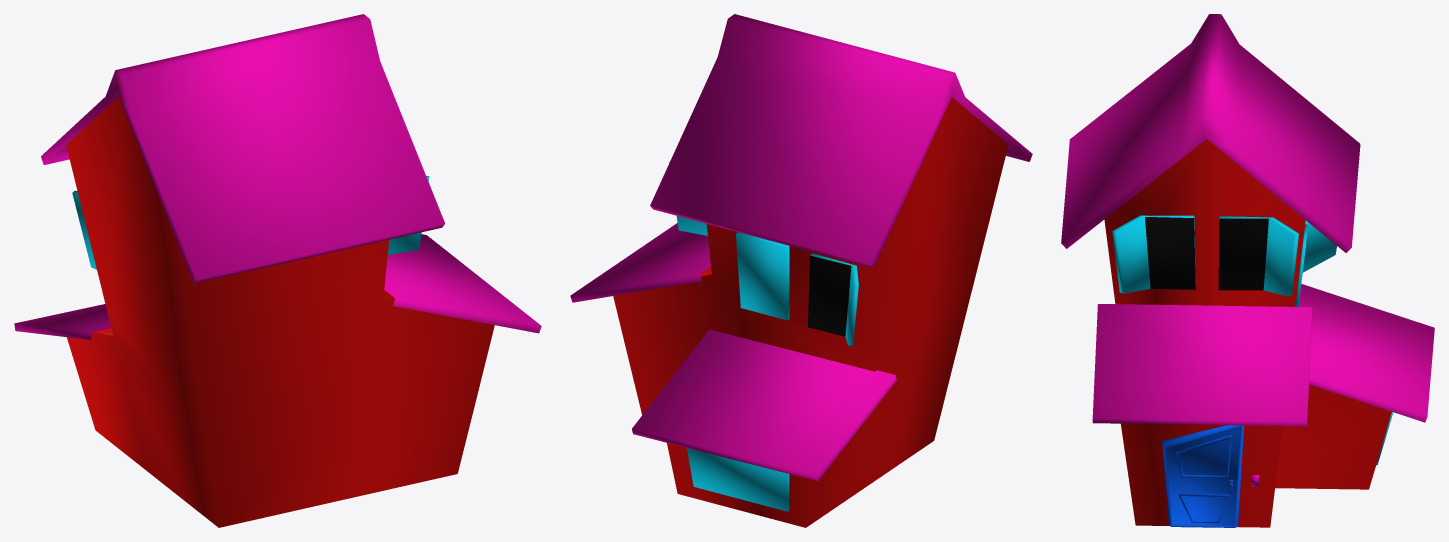
File: casa_campainha02.fbx
3 views of the same model, side by side, from view 1: azimuth 30°, elevation 25°; view 2: azimuth 150°, elevation 25°; view 3: azimuth 270°, elevation 25° (orthographic). The views are drawn at different scales.
Parts seen in each view (by area): view 1: casa_campainha.001; view 2: casa_campainha.001; view 3: casa_campainha.001.
Part boxes in pixels (left/top/right/bottom): casa_campainha.001: left=14, top=14, right=541, bottom=527; casa_campainha.001: left=570, top=14, right=1032, bottom=527; casa_campainha.001: left=1061, top=14, right=1434, bottom=527.
Bounding box in the file's own units: 6.31 × 7.28 × 6.38.
